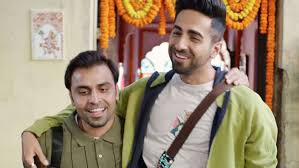Bad: (21, 1, 278, 168)
